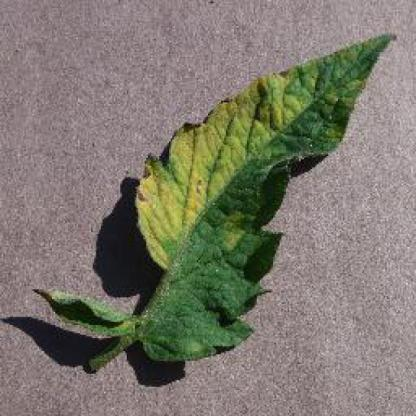Tomato_Leaf_Mold: (137, 32, 395, 312)
